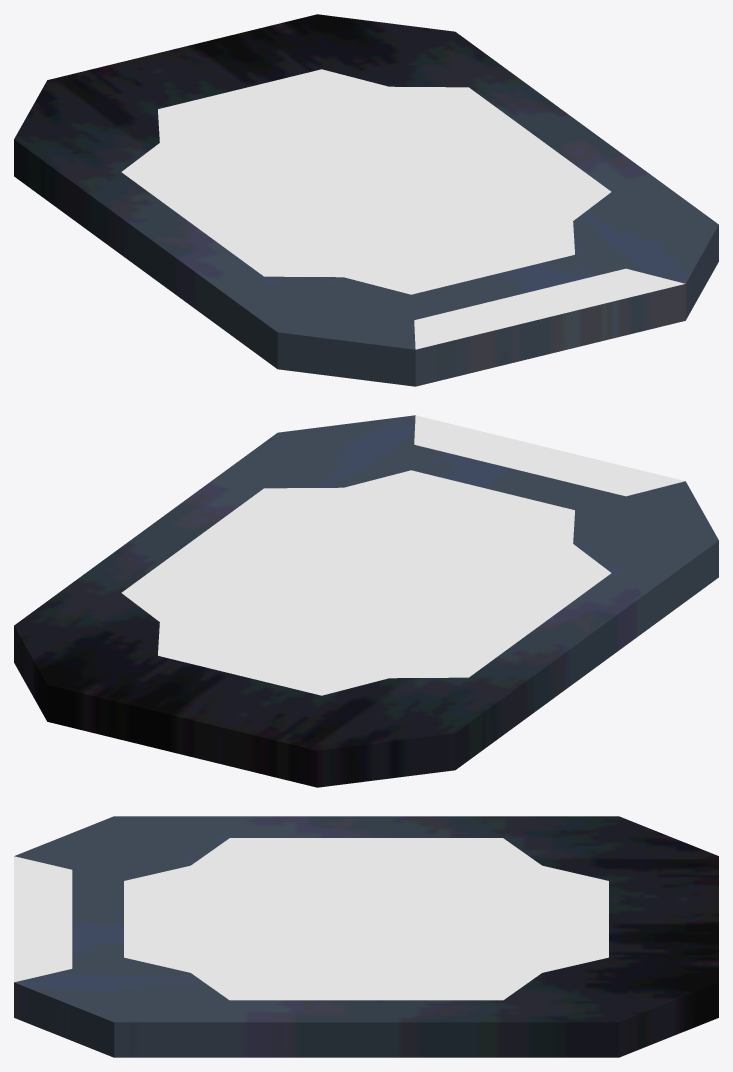
File: commTablet.fbx
The picture shows the model from 3 angles, top to bottom: view 1: azimuth 30°, elevation 25°; view 2: azimuth 150°, elevation 25°; view 3: azimuth 270°, elevation 25°; orthographic projection. The views are drawn at different scales.
Visible parts, largest first — view 1: commtablet; view 2: commtablet; view 3: commtablet.
Part boxes in pixels (bbox=[...]): commtablet: bbox=[14, 14, 718, 386]; commtablet: bbox=[14, 415, 718, 787]; commtablet: bbox=[14, 816, 718, 1057].
Bounding box in the file's own units: 1.86 × 0.1487 × 2.68.
